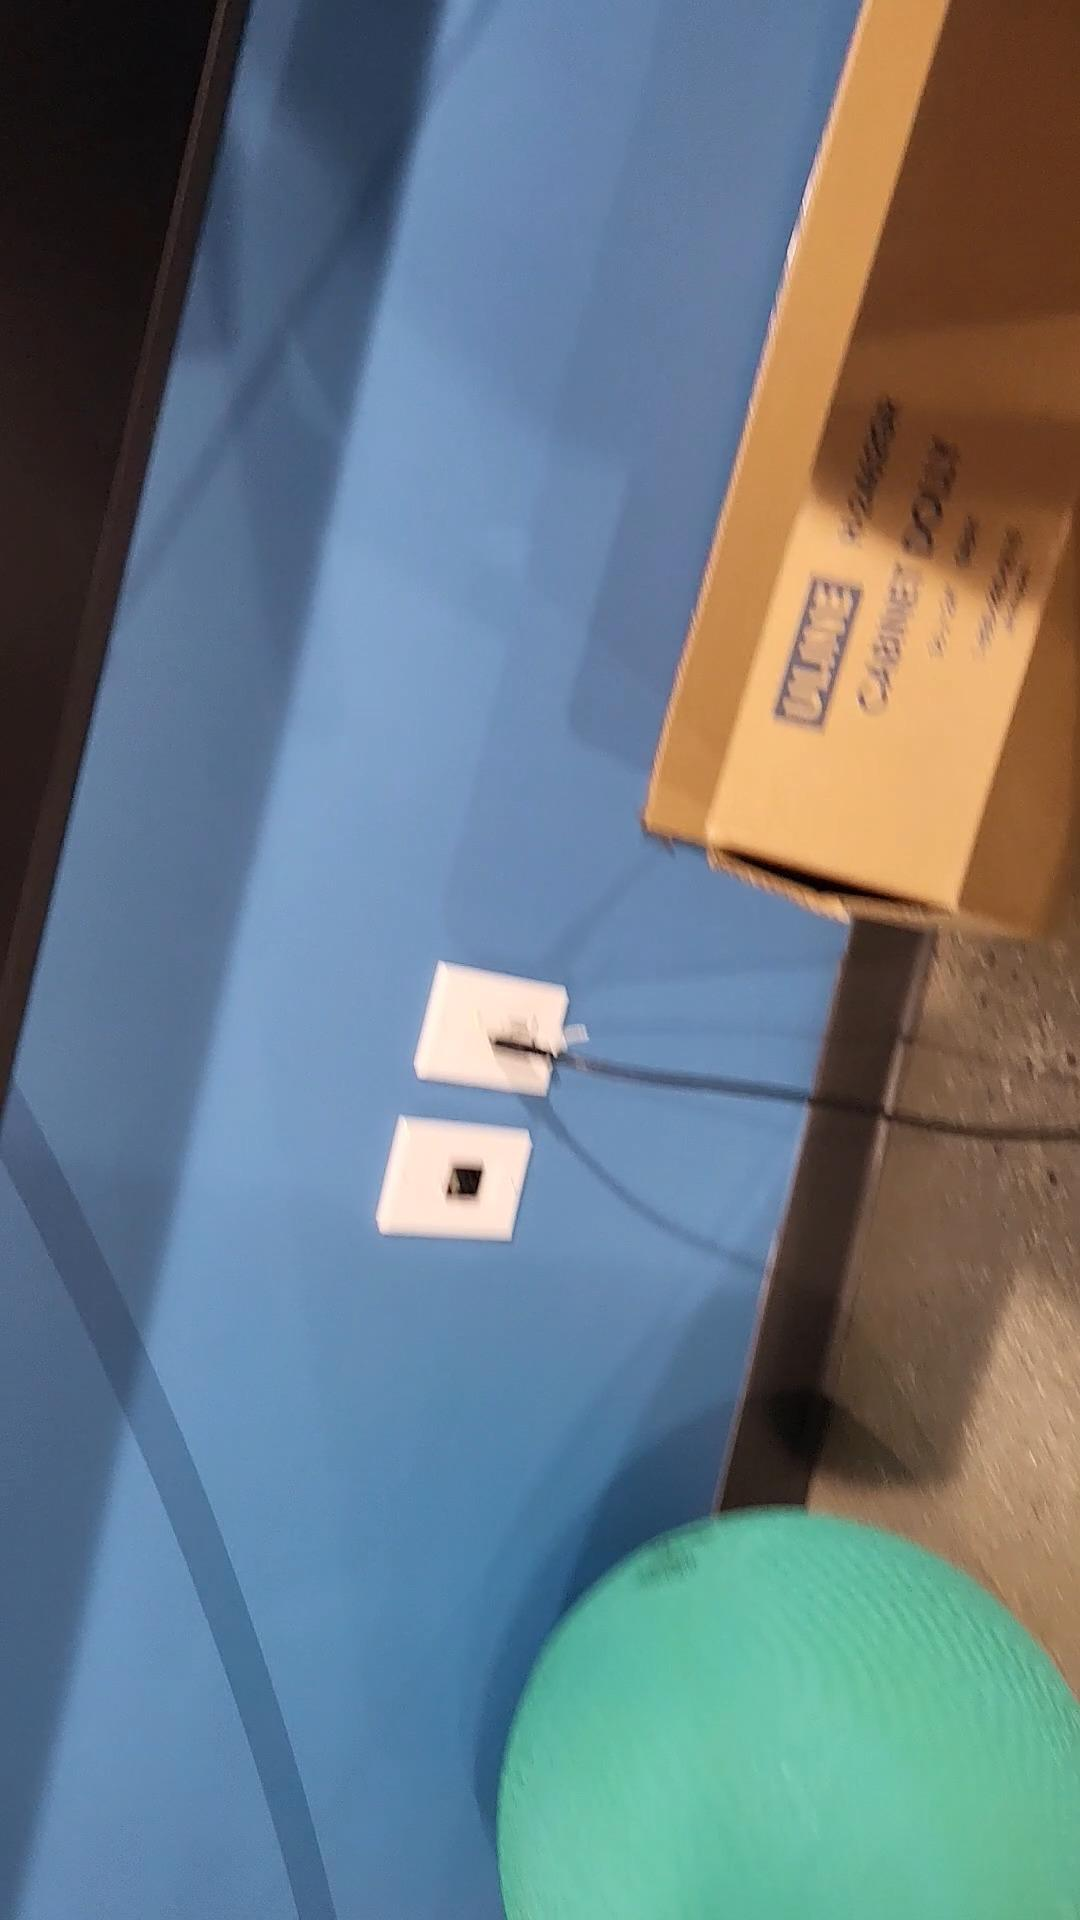algae: (502, 1507, 1080, 1920)
